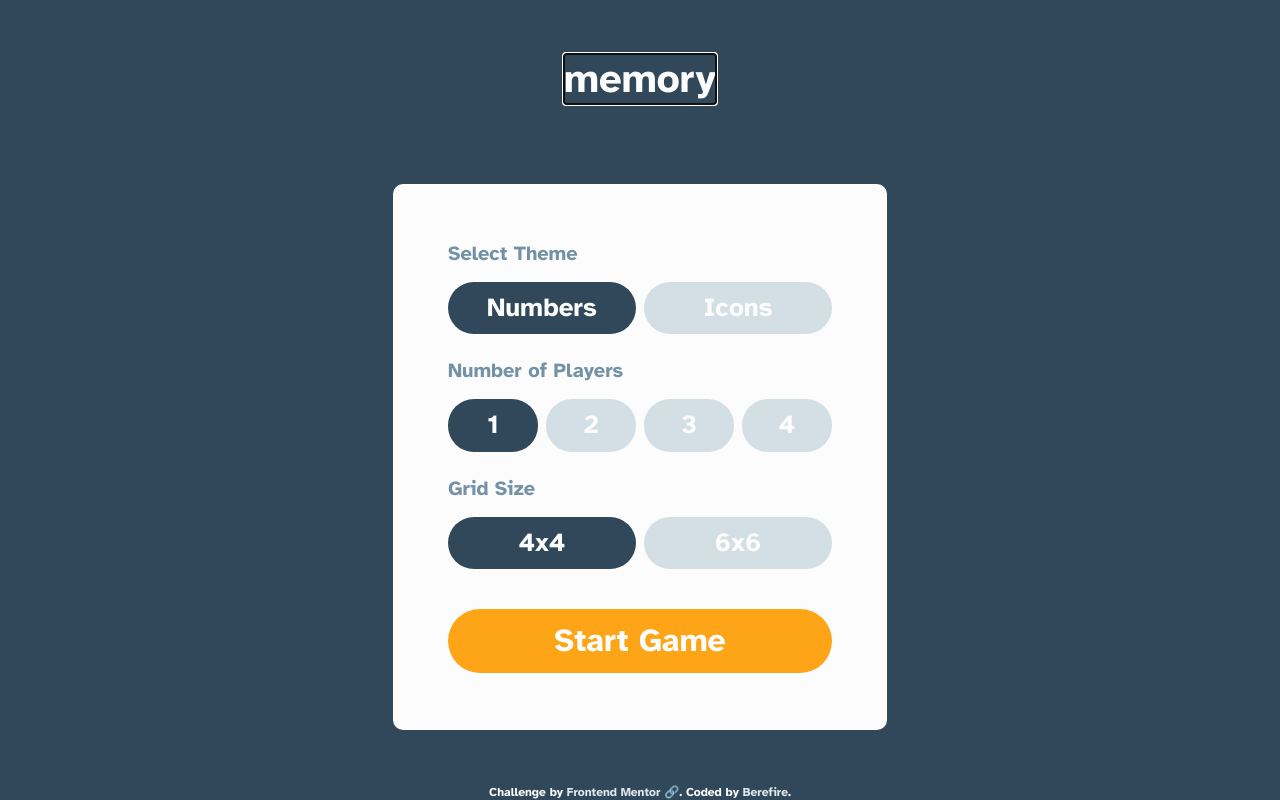
Test: App (integration, real pages) › starts a real game when Start Game is submitted from the real SetupPage
The width and height of the screenshot is (1280, 800).
Click the button "Start Game" at coordinates (640, 641), box top-left (448, 609), bottom-right (832, 673)
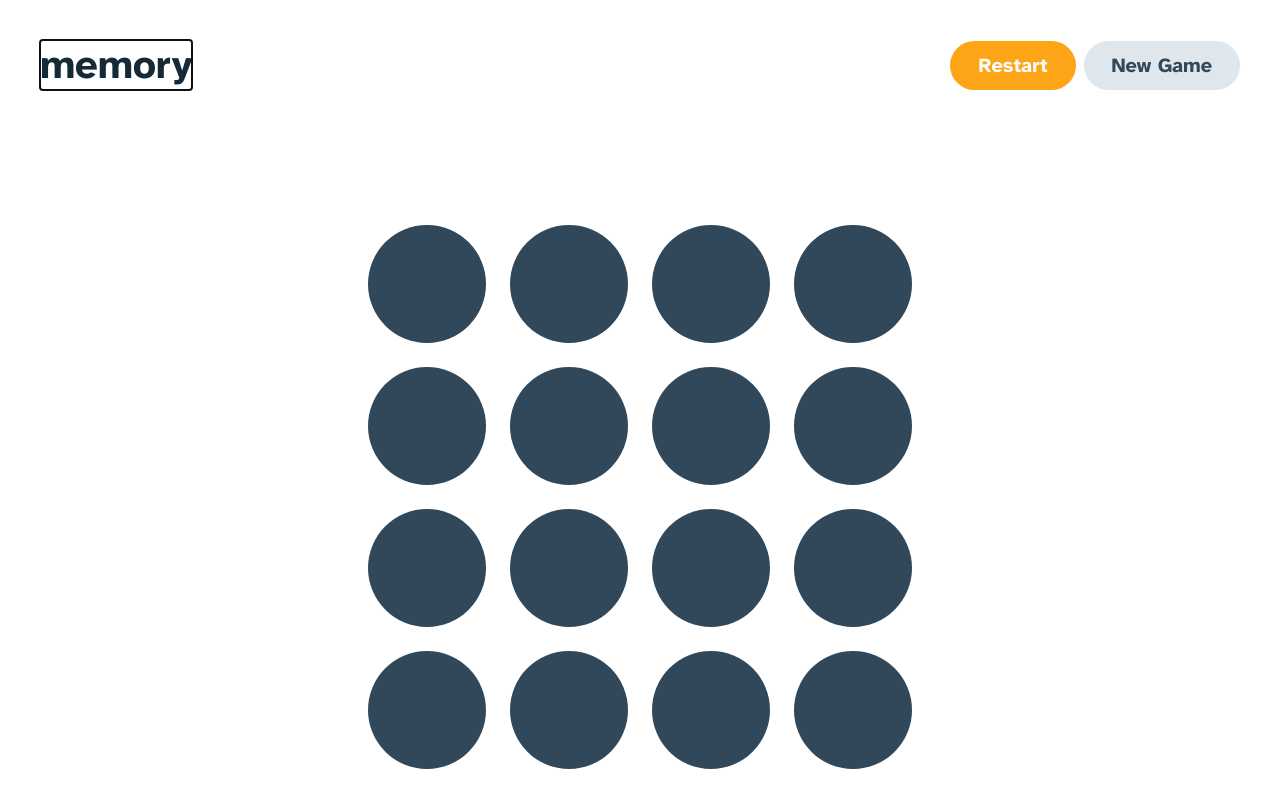
Result: the button "Restart" is shown at top-left (950, 40), bottom-right (1076, 90)
Result: the 1st button "8" is shown at top-left (368, 225), bottom-right (486, 343)
